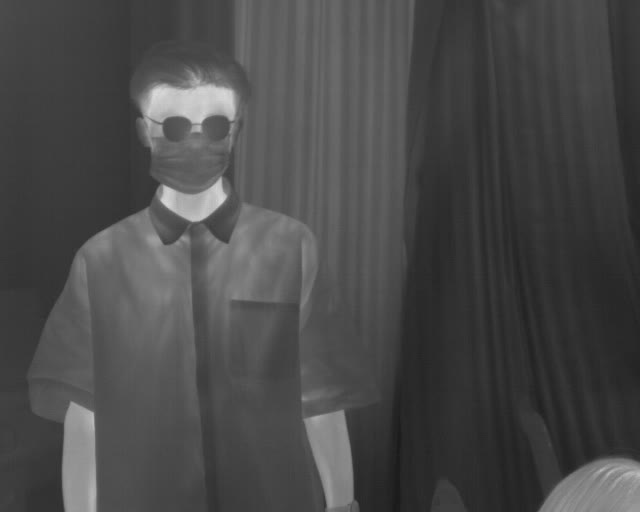face: (124, 39, 256, 196)
